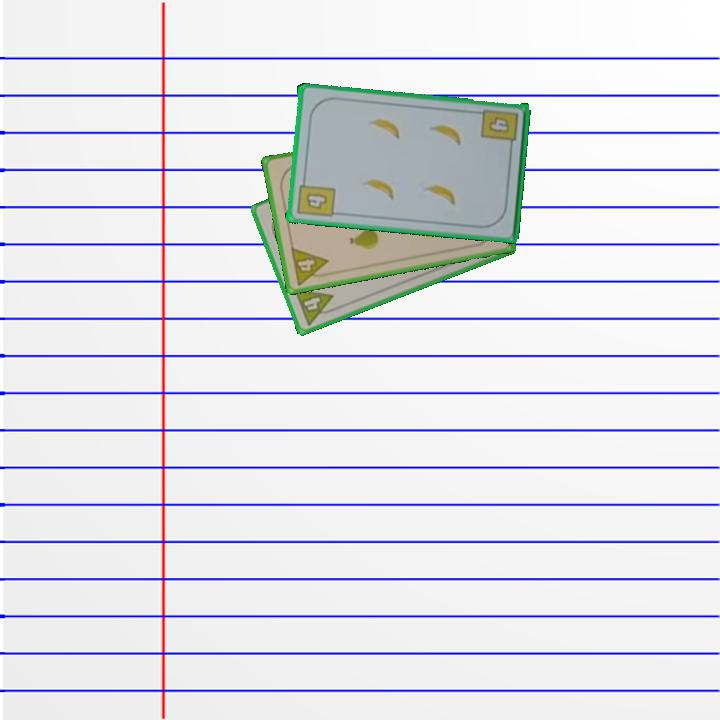4b: (293, 174, 337, 220), (478, 106, 521, 152)
4p: (291, 285, 341, 328), (287, 244, 333, 288)
